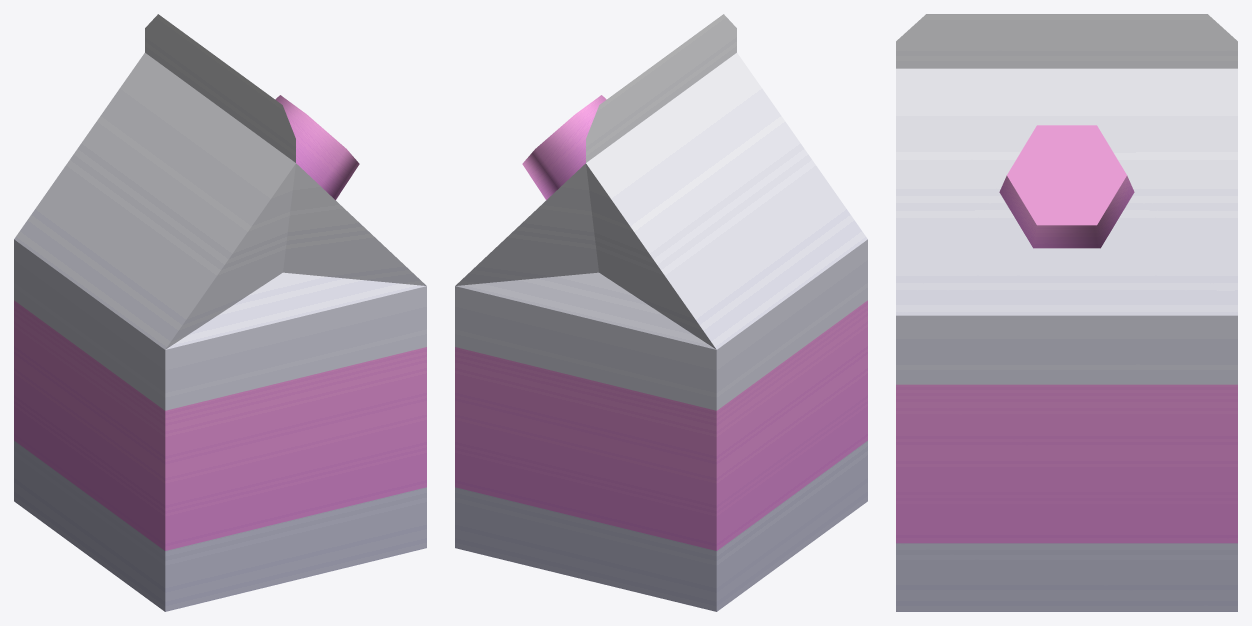
Rendered from kf_carton-small.glb.
3 views of the same model, side by side, from view 1: azimuth 30°, elevation 25°; view 2: azimuth 150°, elevation 25°; view 3: azimuth 270°, elevation 25° (orthographic). The views are drawn at different scales.
Parts seen in each view (by area): view 1: carton-small; view 2: carton-small; view 3: carton-small.
Boxes of the visible parts, box(x1,y1,x2,y2) form: carton-small: box(14, 14, 426, 611); carton-small: box(455, 14, 867, 611); carton-small: box(896, 14, 1237, 611).
Bounding box in the file's own units: 0.067 × 0.1138 × 0.067.
Materials: 1 (1 with a texture image).
